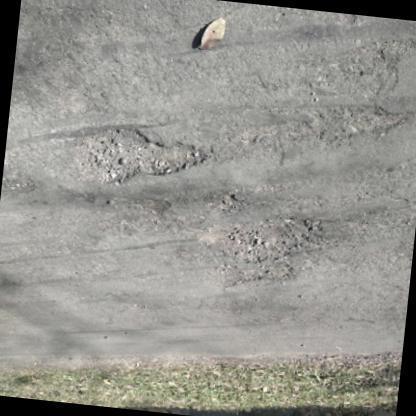pothole: (61, 121, 213, 187), (198, 208, 320, 288)
